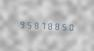eight: (45, 19, 51, 31), (31, 19, 37, 30), (52, 20, 58, 31)
five: (24, 18, 30, 30), (59, 20, 65, 31)
nine: (17, 18, 23, 29)
seven: (38, 19, 44, 30)
zero: (66, 21, 72, 32)
